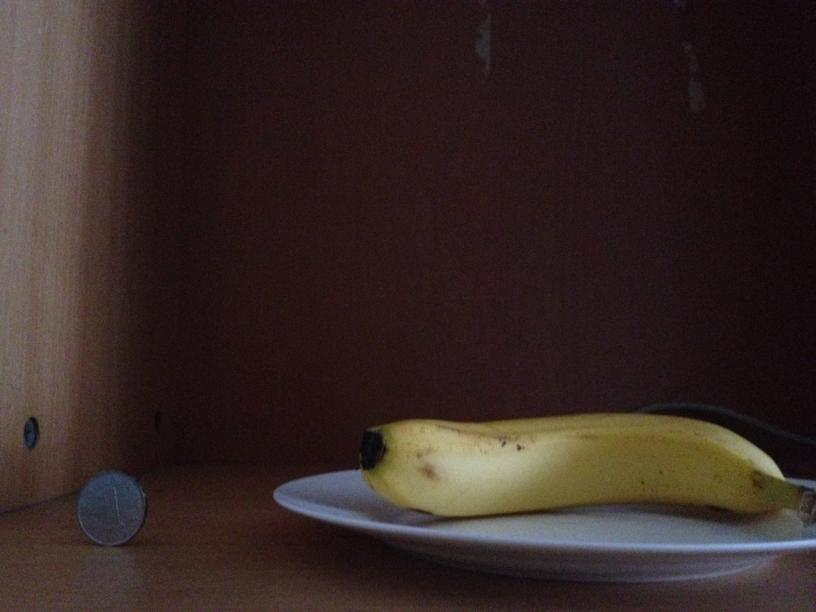banana: (366, 418, 789, 519)
coin: (76, 475, 146, 547)
